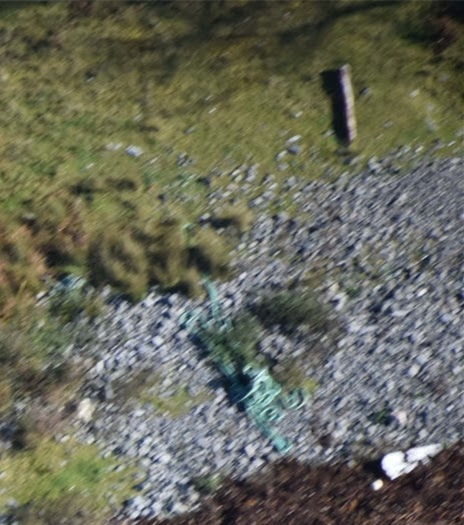net: (210, 343, 308, 453)
straight_bar: (320, 56, 374, 153)
white_in_green: (339, 399, 464, 522)
